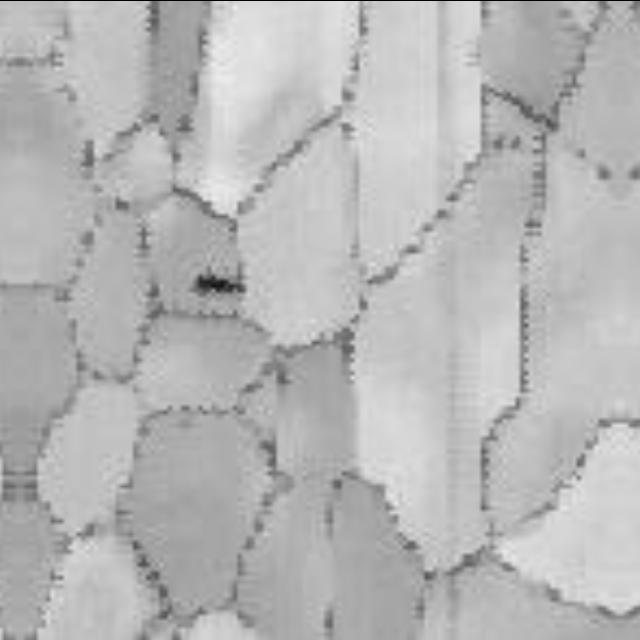good_void: (192, 267, 251, 300)
